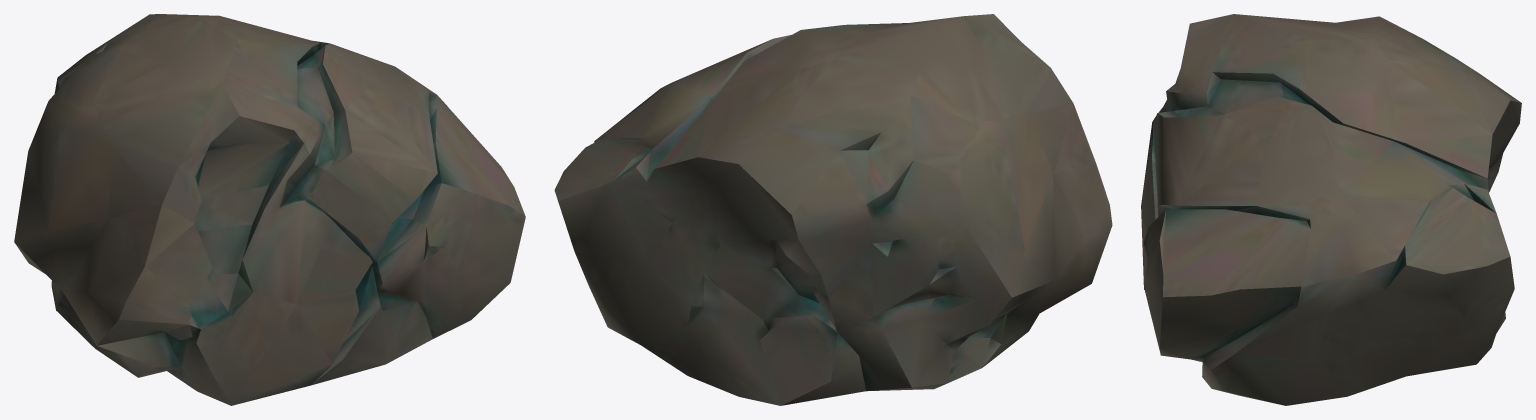
The model's file is resource_copper_ore_2.glb.
3 renders of one model, left to right at view 1: azimuth 30°, elevation 25°; view 2: azimuth 150°, elevation 25°; view 3: azimuth 270°, elevation 25°, orthographic. The views are drawn at different scales.
Visible parts, largest first — view 1: MeshyGear_resource_copper_ore; view 2: MeshyGear_resource_copper_ore; view 3: MeshyGear_resource_copper_ore.
Boxes of the visible parts, <box> form: MeshyGear_resource_copper_ore: <box>14,14,525,405</box>; MeshyGear_resource_copper_ore: <box>554,14,1112,405</box>; MeshyGear_resource_copper_ore: <box>1141,14,1521,405</box>.
Size of what is drawn, in the model's own units: 2.01 by 1.37 by 1.69.
1 material, 1 textured.
